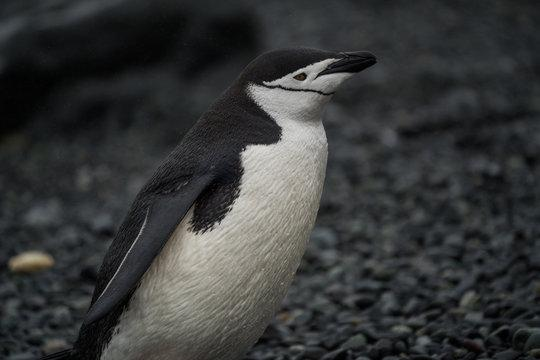chinstrap: (46, 30, 382, 360)
